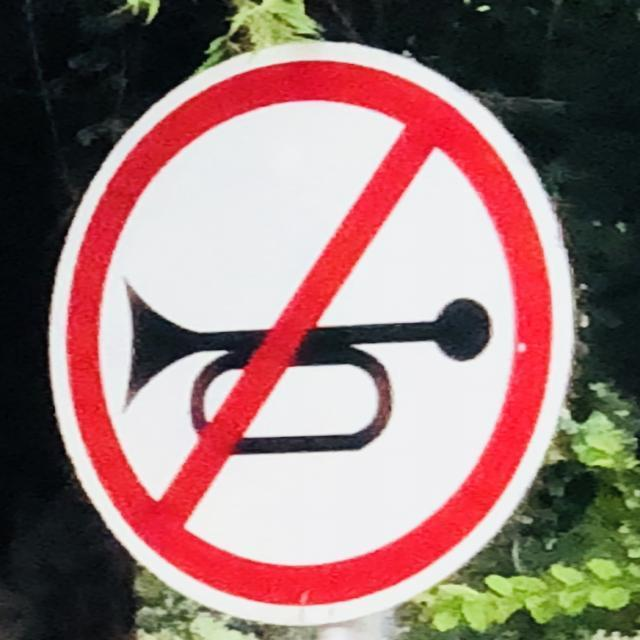horn prohibited: (50, 40, 574, 626)
